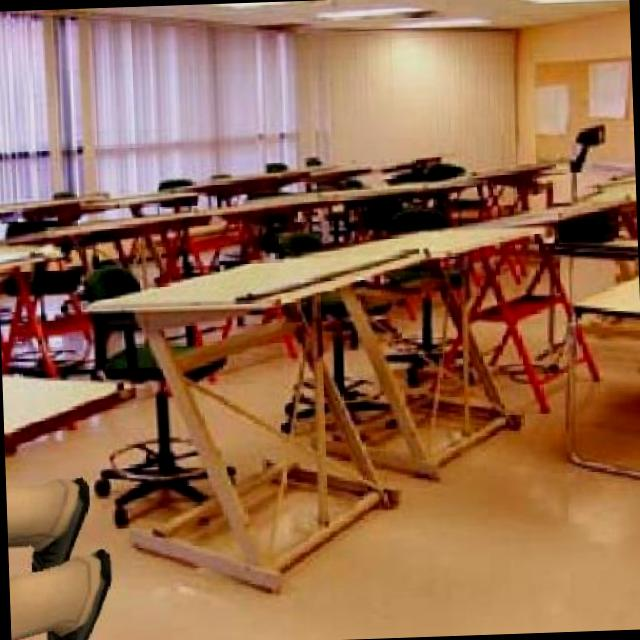Person: (5, 465, 117, 640)
